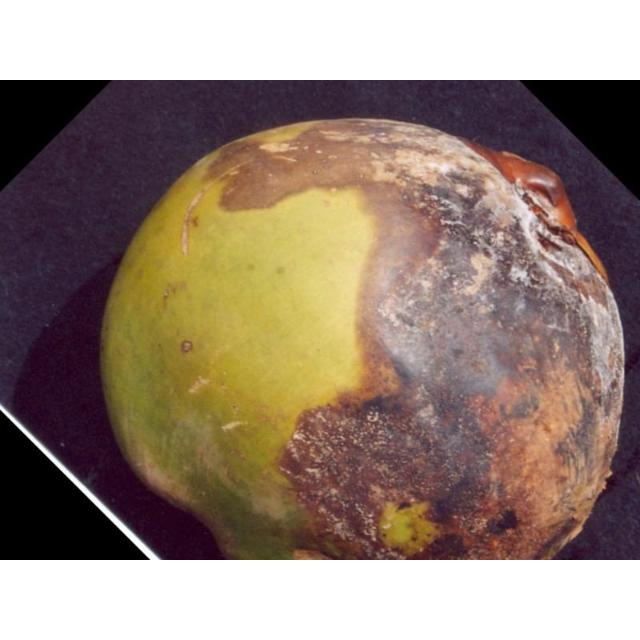damaged: (98, 118, 627, 559)
